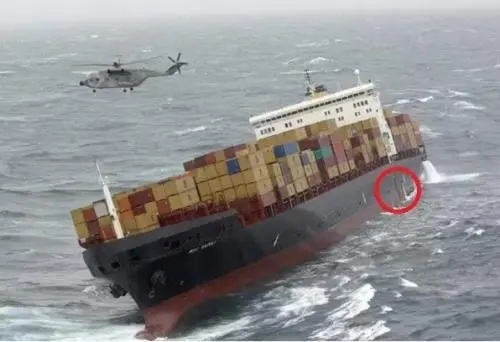Cargoship: (66, 64, 427, 333)
airplane: (71, 48, 193, 97)
